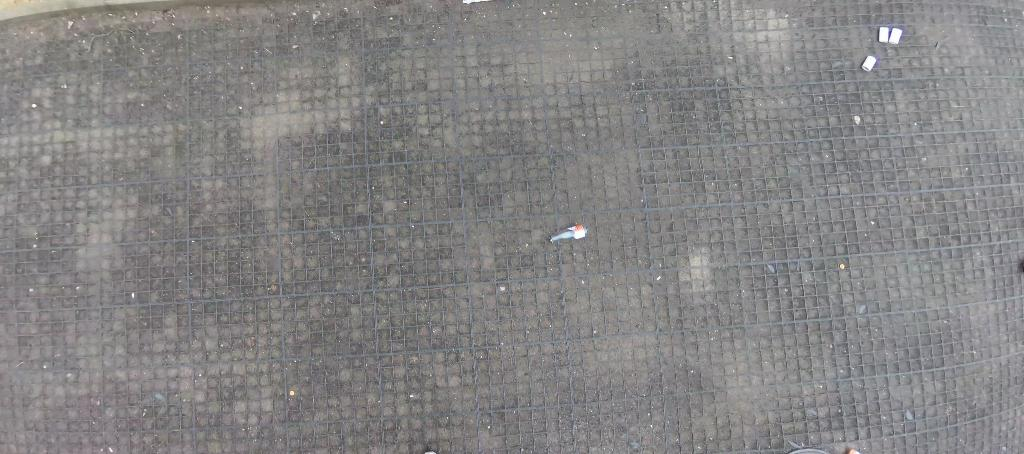garbage: (549, 223, 589, 245), (878, 23, 905, 48), (860, 53, 879, 74)
